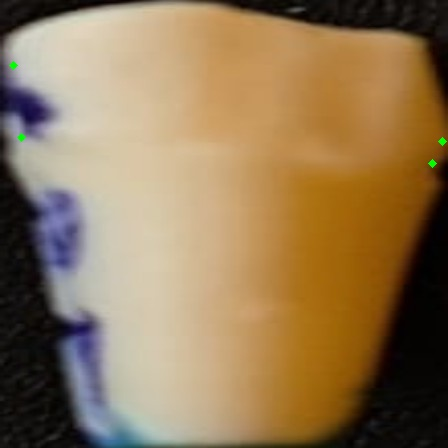coin_1: (21, 137, 41, 157)
coin_2: (13, 65, 33, 85)
coin_3: (432, 163, 448, 183)
coin_4: (442, 141, 448, 161)
